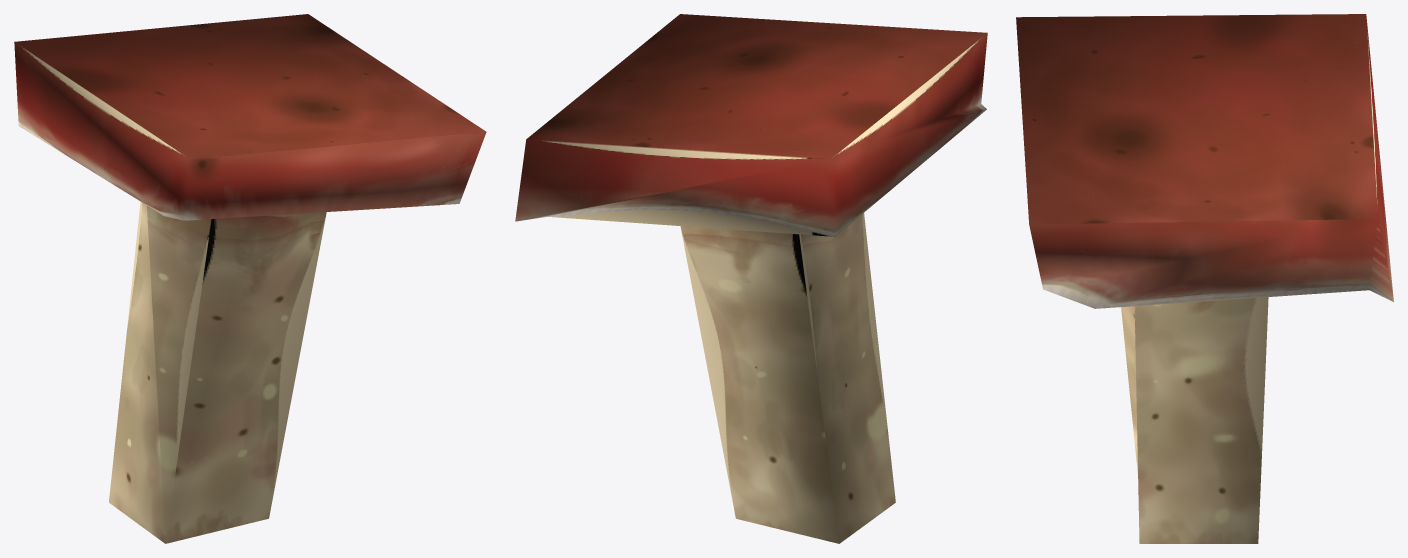
File: Mushroom_LOD3.fbx
3 renders of one model, left to right at view 1: azimuth 30°, elevation 25°; view 2: azimuth 150°, elevation 25°; view 3: azimuth 270°, elevation 25°, orthographic. The views are drawn at different scales.
Parts seen in each view (by area): view 1: Mushroom_LOD3; view 2: Mushroom_LOD3; view 3: Mushroom_LOD3.
Part boxes in pixels (x1,y1,x2,y2): Mushroom_LOD3: (14, 14, 486, 543); Mushroom_LOD3: (515, 14, 987, 543); Mushroom_LOD3: (1016, 14, 1393, 543).
Bounding box in the file's own units: 8.57 × 10.86 × 8.14.
